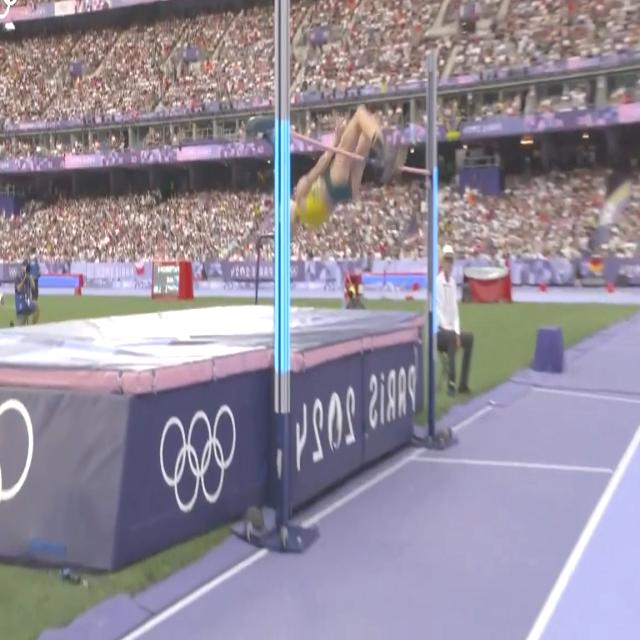jump: (289, 97, 408, 236)
